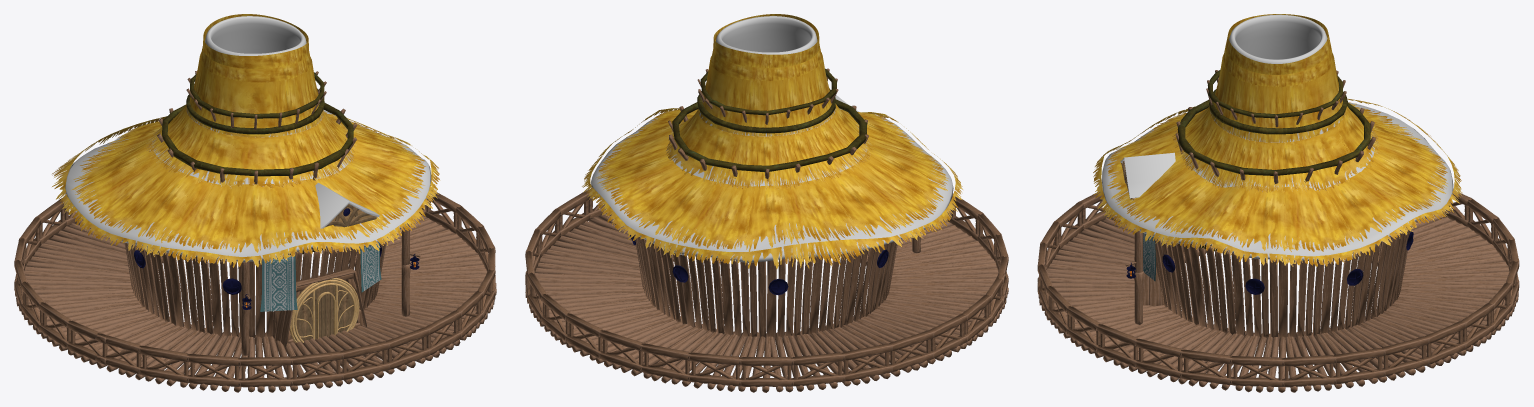
The model's file is SM_hut_03.fbx.
3 views of the same model, side by side, from view 1: azimuth 30°, elevation 25°; view 2: azimuth 150°, elevation 25°; view 3: azimuth 270°, elevation 25° (orthographic).
Parts seen in each view (by area): view 1: hut_03; view 2: hut_03; view 3: hut_03.
Boxes of the visible parts, x1,y1,x2,y2 form: hut_03: [14, 14, 496, 392]; hut_03: [525, 14, 1008, 392]; hut_03: [1037, 14, 1519, 392].
Bounding box in the file's own units: 2118 × 1264 × 2117.
